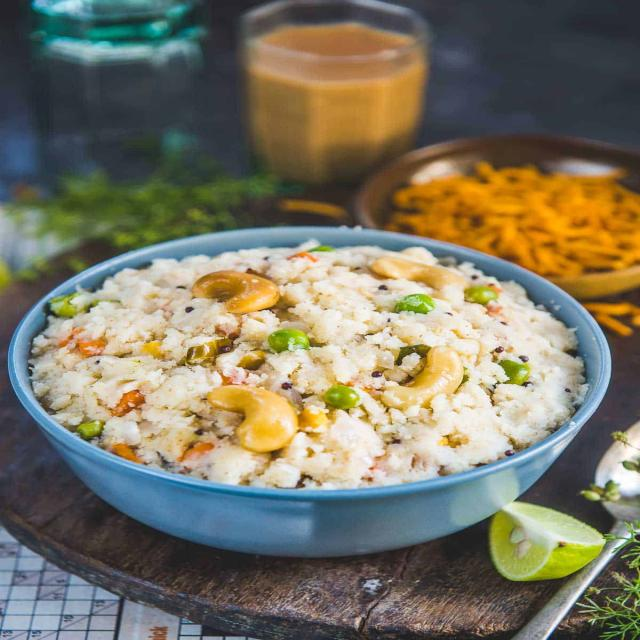upma: (16, 226, 602, 503)
